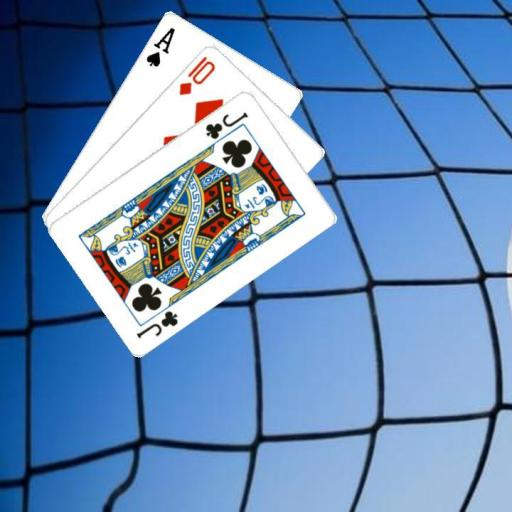10D: (176, 53, 217, 97)
AS: (143, 24, 177, 69)
JC: (133, 306, 180, 340), (202, 108, 250, 141)
